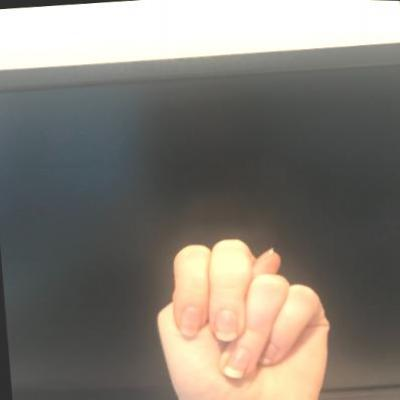hand: (141, 222, 346, 399)
